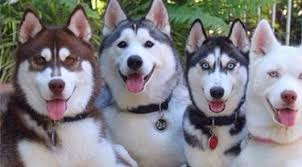Siberian Husky: (13, 9, 102, 156), (101, 5, 186, 156), (184, 19, 247, 160), (249, 23, 302, 165)
